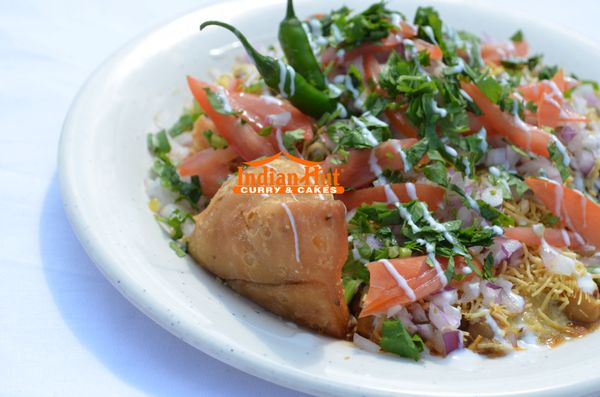sushi: (56, 4, 595, 391)
